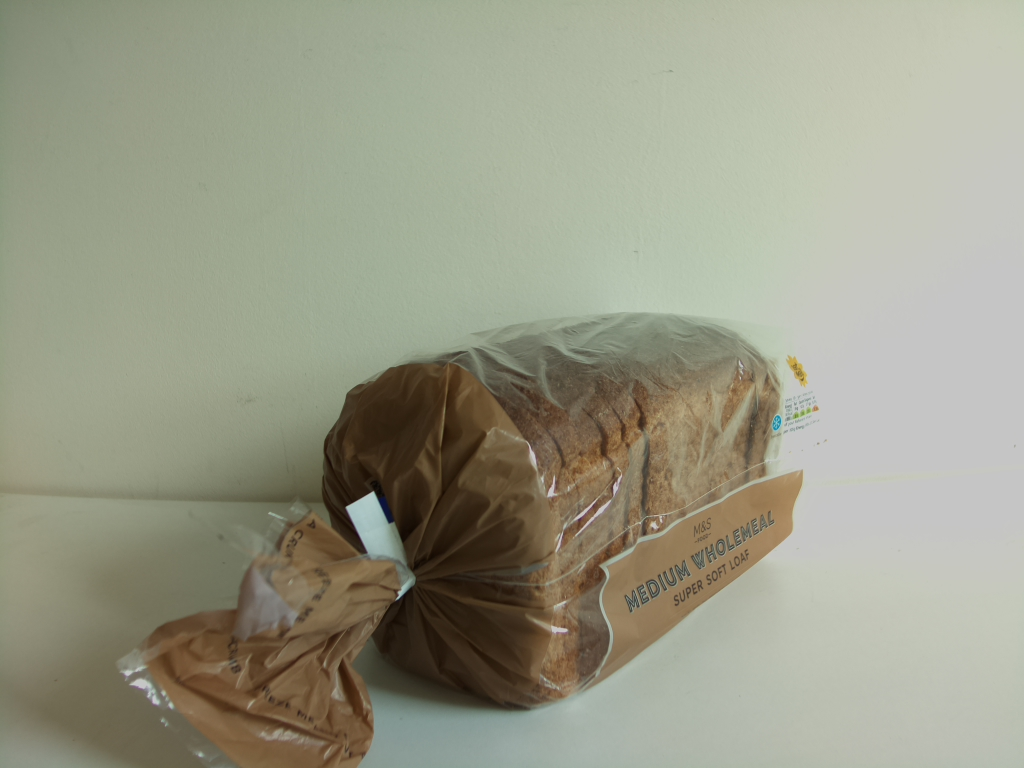bread: (115, 308, 826, 768)
